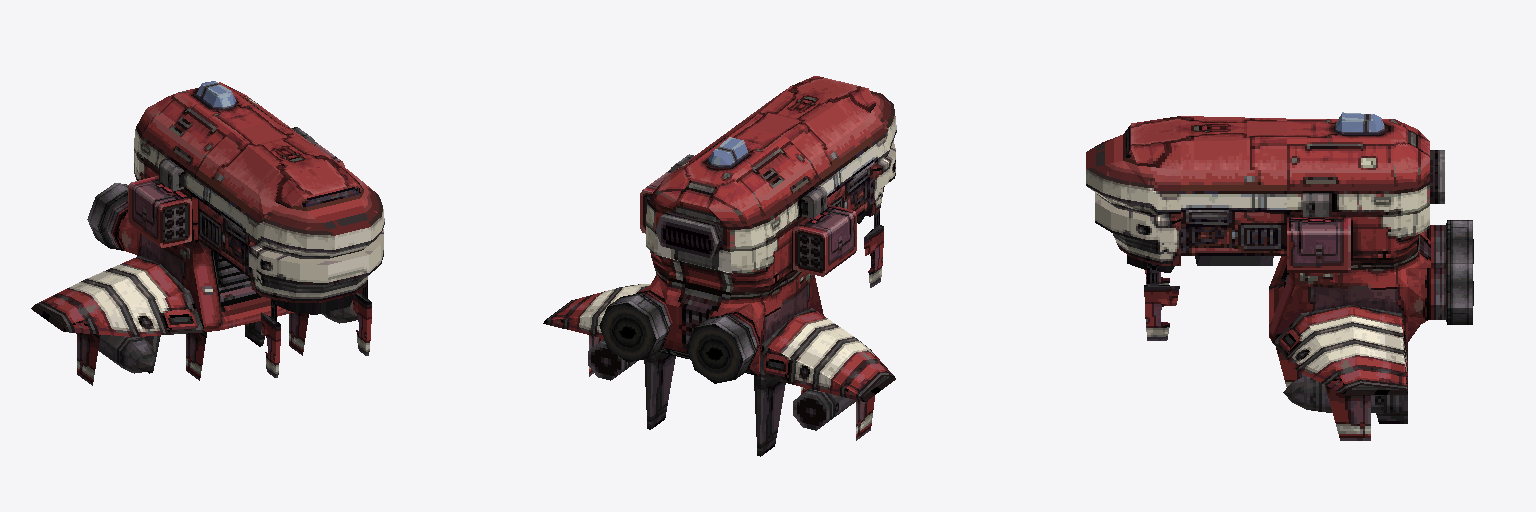
3 views of the same model, side by side, from view 1: azimuth 30°, elevation 25°; view 2: azimuth 150°, elevation 25°; view 3: azimuth 270°, elevation 25° (orthographic).
Parts seen in each view (by area): view 1: Object_0, Object_1, Object_2, Object_4, Object_3; view 2: Object_0, Object_1, Object_2, Object_4; view 3: Object_0, Object_1, Object_2, Object_3.
Part boxes in pixels (x1,y1,x2,y2): Object_0: (128,81,344,278); Object_1: (31,183,361,385); Object_2: (245,159,384,314); Object_4: (261,299,280,377); Object_3: (352,280,371,355); Object_0: (640,86,877,303); Object_1: (543,273,895,456); Object_2: (792,76,896,223); Object_4: (864,211,883,287); Object_0: (1181,112,1444,274); Object_1: (1269,220,1473,440); Object_2: (1086,116,1180,272); Object_3: (1144,264,1179,340).
Bounding box in the file's own units: 2826 × 2345 × 2938.
Materials: 18 (15 with a texture image).